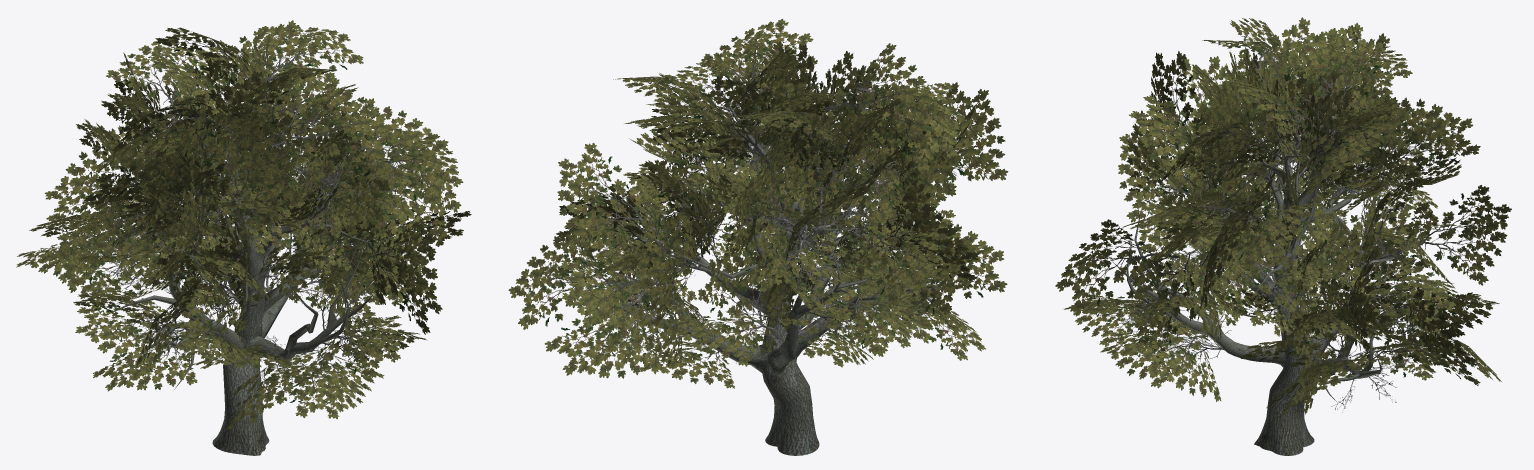
Rendered from Maple_18m.fbx.
3 renders of one model, left to right at view 1: azimuth 30°, elevation 25°; view 2: azimuth 150°, elevation 25°; view 3: azimuth 270°, elevation 25°, orthographic. The views are drawn at different scales.
Parts seen in each view (by area): view 1: Maple_18m; view 2: Maple_18m; view 3: Maple_18m.
Boxes of the visible parts, box(x1,y1,x2,y2) form: Maple_18m: box(16, 20, 471, 455); Maple_18m: box(508, 19, 1008, 455); Maple_18m: box(1055, 17, 1511, 455).
Bounding box in the file's own units: 1618 × 1648 × 1718.
